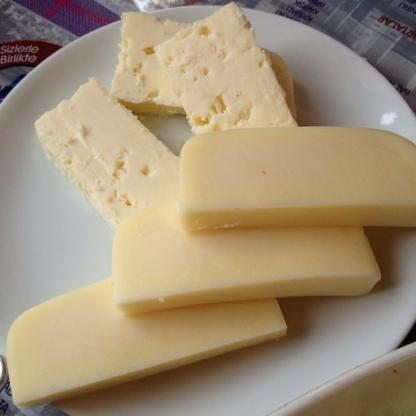mozarella cheese: (37, 78, 192, 231), (108, 11, 288, 121), (150, 4, 290, 136)
parmesan cheese: (2, 286, 289, 404), (112, 210, 380, 315), (180, 122, 415, 231)
